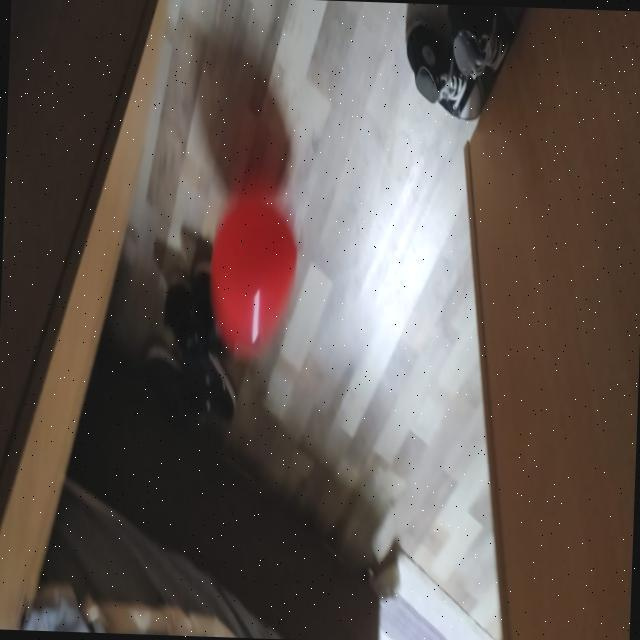balloon: (201, 184, 308, 366)
